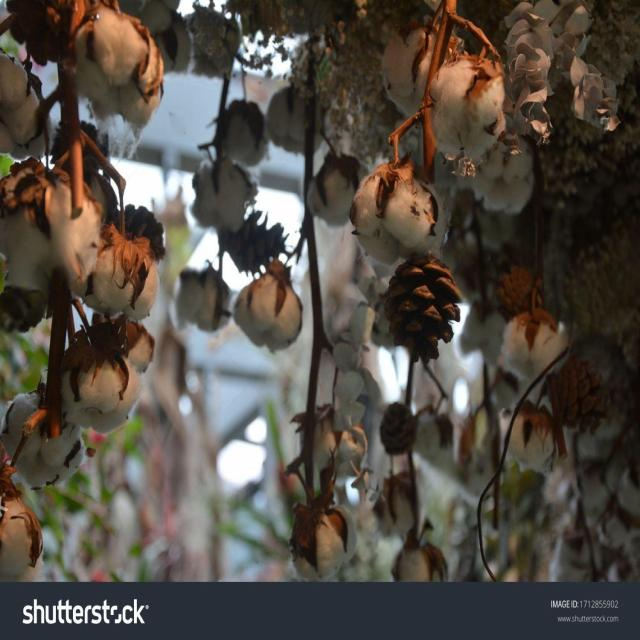Early_blight: (343, 153, 464, 276), (2, 154, 98, 288), (71, 4, 162, 133), (59, 319, 154, 432), (1, 391, 87, 491), (428, 68, 507, 154), (234, 262, 305, 349), (287, 507, 352, 577)
